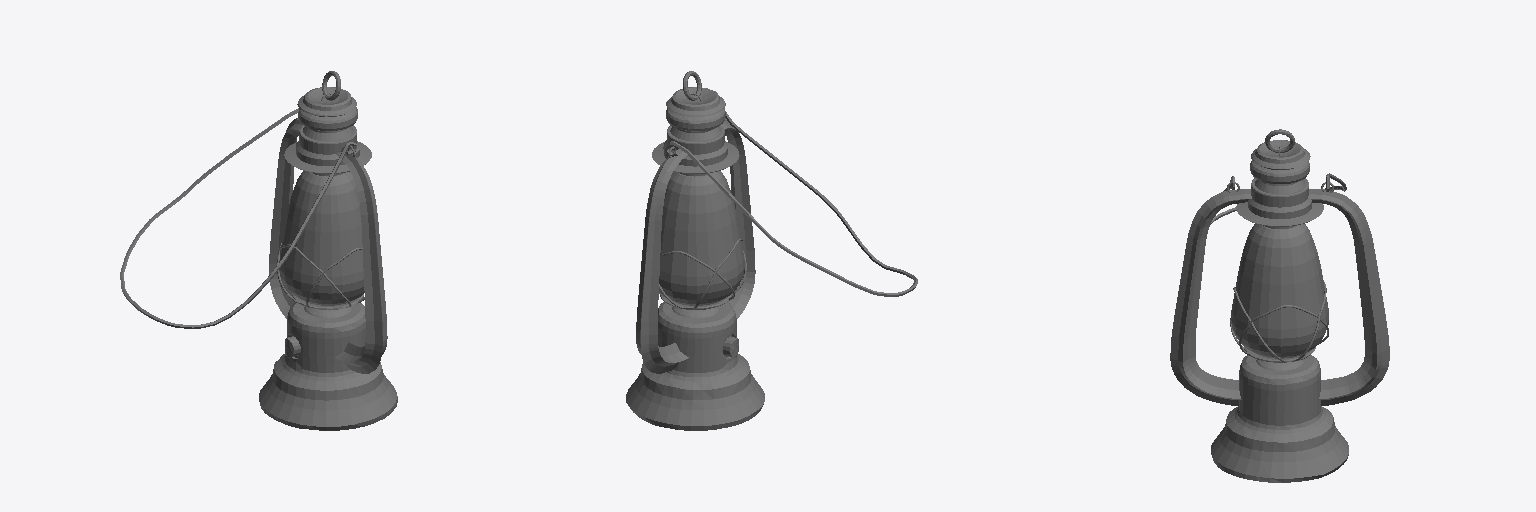
File: torch.obj
3 renders of one model, left to right at view 1: azimuth 30°, elevation 25°; view 2: azimuth 150°, elevation 25°; view 3: azimuth 270°, elevation 25°, orthographic.
Visible parts, largest first — view 1: nurbsToPoly10_Low, nurbsToPoly6_Low, sweep2_Low, nurbsToPoly8_Low, sweep3_Low, sweep1_Low, nurbsToPoly7_Low, nurbsToPoly9_Low, nurbsToPoly5_Low; view 2: nurbsToPoly10_Low, nurbsToPoly6_Low, sweep1_Low, nurbsToPoly8_Low, sweep2_Low, sweep3_Low, nurbsToPoly7_Low, nurbsToPoly9_Low, nurbsToPoly5_Low; view 3: nurbsToPoly10_Low, nurbsToPoly6_Low, sweep2_Low, sweep1_Low, nurbsToPoly7_Low, nurbsToPoly8_Low, nurbsToPoly5_Low, nurbsToPoly9_Low.
Boxes of the visible parts, box(x1,y1,x2,y2) form: nurbsToPoly10_Low: box(259, 303, 397, 430); nurbsToPoly6_Low: box(279, 171, 364, 305); sweep2_Low: box(335, 147, 387, 373); nurbsToPoly8_Low: box(297, 87, 357, 140); sweep3_Low: box(120, 108, 356, 328); sweep1_Low: box(269, 118, 302, 318); nurbsToPoly7_Low: box(284, 125, 371, 175); nurbsToPoly9_Low: box(292, 294, 363, 317); nurbsToPoly5_Low: box(277, 241, 364, 307); nurbsToPoly10_Low: box(626, 301, 764, 430); nurbsToPoly6_Low: box(659, 171, 744, 305); sweep1_Low: box(636, 149, 688, 373); nurbsToPoly8_Low: box(666, 87, 725, 140); sweep2_Low: box(721, 118, 755, 318); sweep3_Low: box(665, 111, 917, 296); nurbsToPoly7_Low: box(652, 125, 739, 176); nurbsToPoly9_Low: box(660, 294, 731, 317); nurbsToPoly5_Low: box(659, 239, 746, 309); nurbsToPoly10_Low: box(1211, 355, 1348, 482); nurbsToPoly6_Low: box(1231, 224, 1328, 358); sweep2_Low: box(1170, 189, 1251, 405); sweep1_Low: box(1308, 189, 1389, 405); nurbsToPoly7_Low: box(1236, 178, 1323, 228); nurbsToPoly8_Low: box(1250, 140, 1310, 193); nurbsToPoly5_Low: box(1230, 282, 1328, 362); nurbsToPoly9_Low: box(1244, 347, 1315, 370).
Bounding box in the file's own units: 0.0101 × 0.012 × 0.0072.